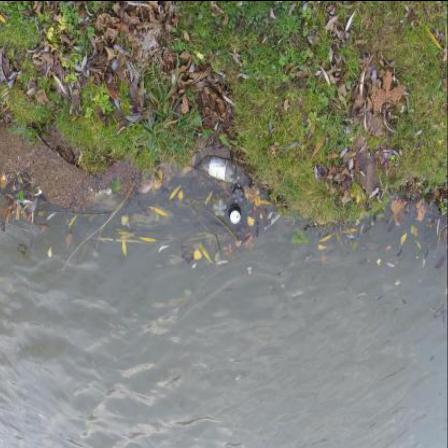Bottle: (202, 156, 237, 184), (214, 195, 230, 216), (234, 186, 245, 204)
Can: (229, 206, 243, 224), (376, 210, 385, 224)
